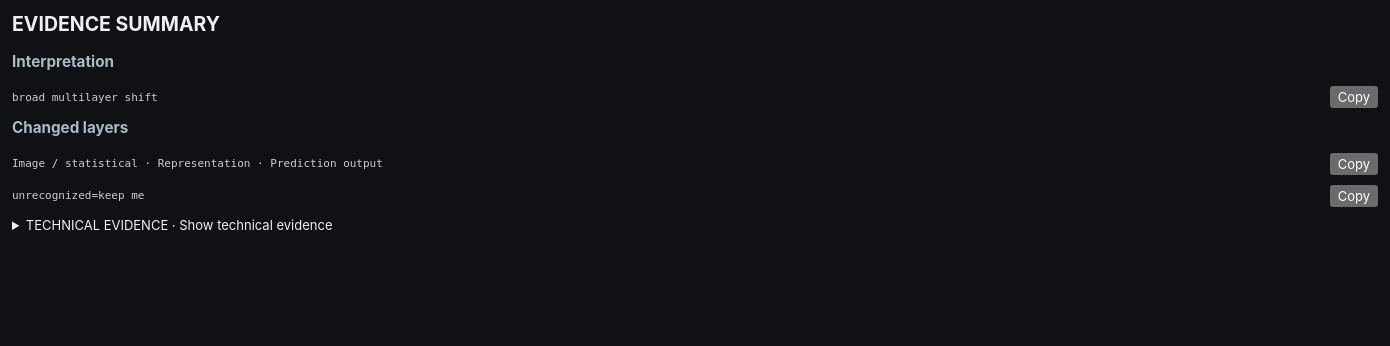
Scenario: summarizes recognized evidence and preserves exact raw evidence on expansion
Expected: the text "broad multilayer shift" is shown, 12,91 -> 158,104
Expected: the text "Image / statistical · Representation · Prediction output" is shown, 12,157 -> 383,170
Click the heading "TECHNICAL EVIDENCE · Show technical evidence".
click(179, 225)  # box 26,217 -> 332,233
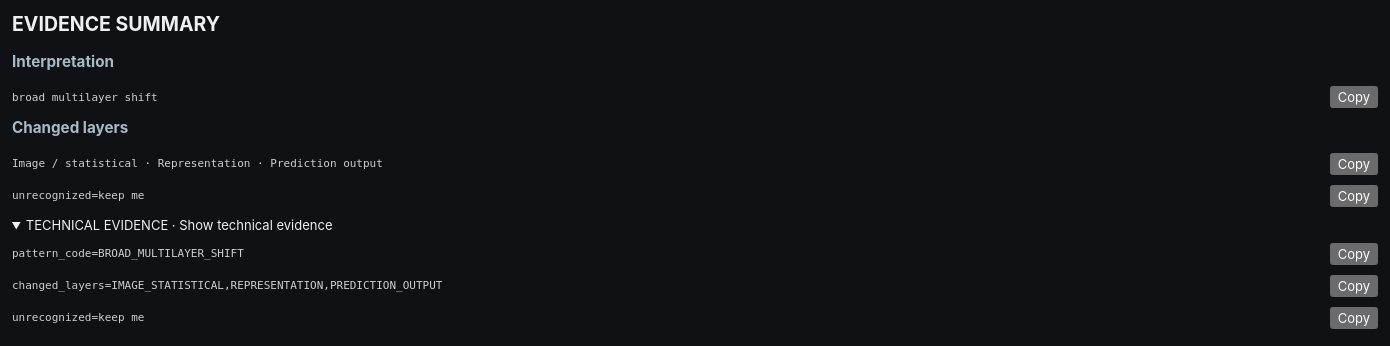
Expected: the text "unrecognized=keep me" is shown, 12,189 -> 144,202
Result: the text "pattern_code=BROAD_MULTILAYER_SHIFT" is shown at 12,247 -> 244,260
Result: the text "changed_layers=IMAGE_STATISTICAL,REPRESENTATION,PREDICTION_OUTPUT" is shown at 12,279 -> 442,292
